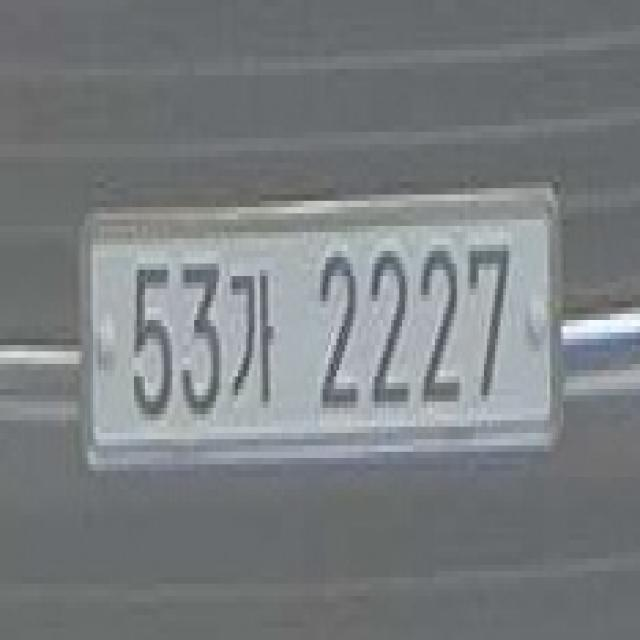2: (413, 226, 465, 427), (364, 238, 416, 408), (317, 245, 364, 414)
3: (178, 244, 224, 426)
5: (115, 245, 180, 420)
7: (462, 238, 517, 396)
ga: (222, 263, 276, 408)
license_plate: (71, 157, 572, 489)
